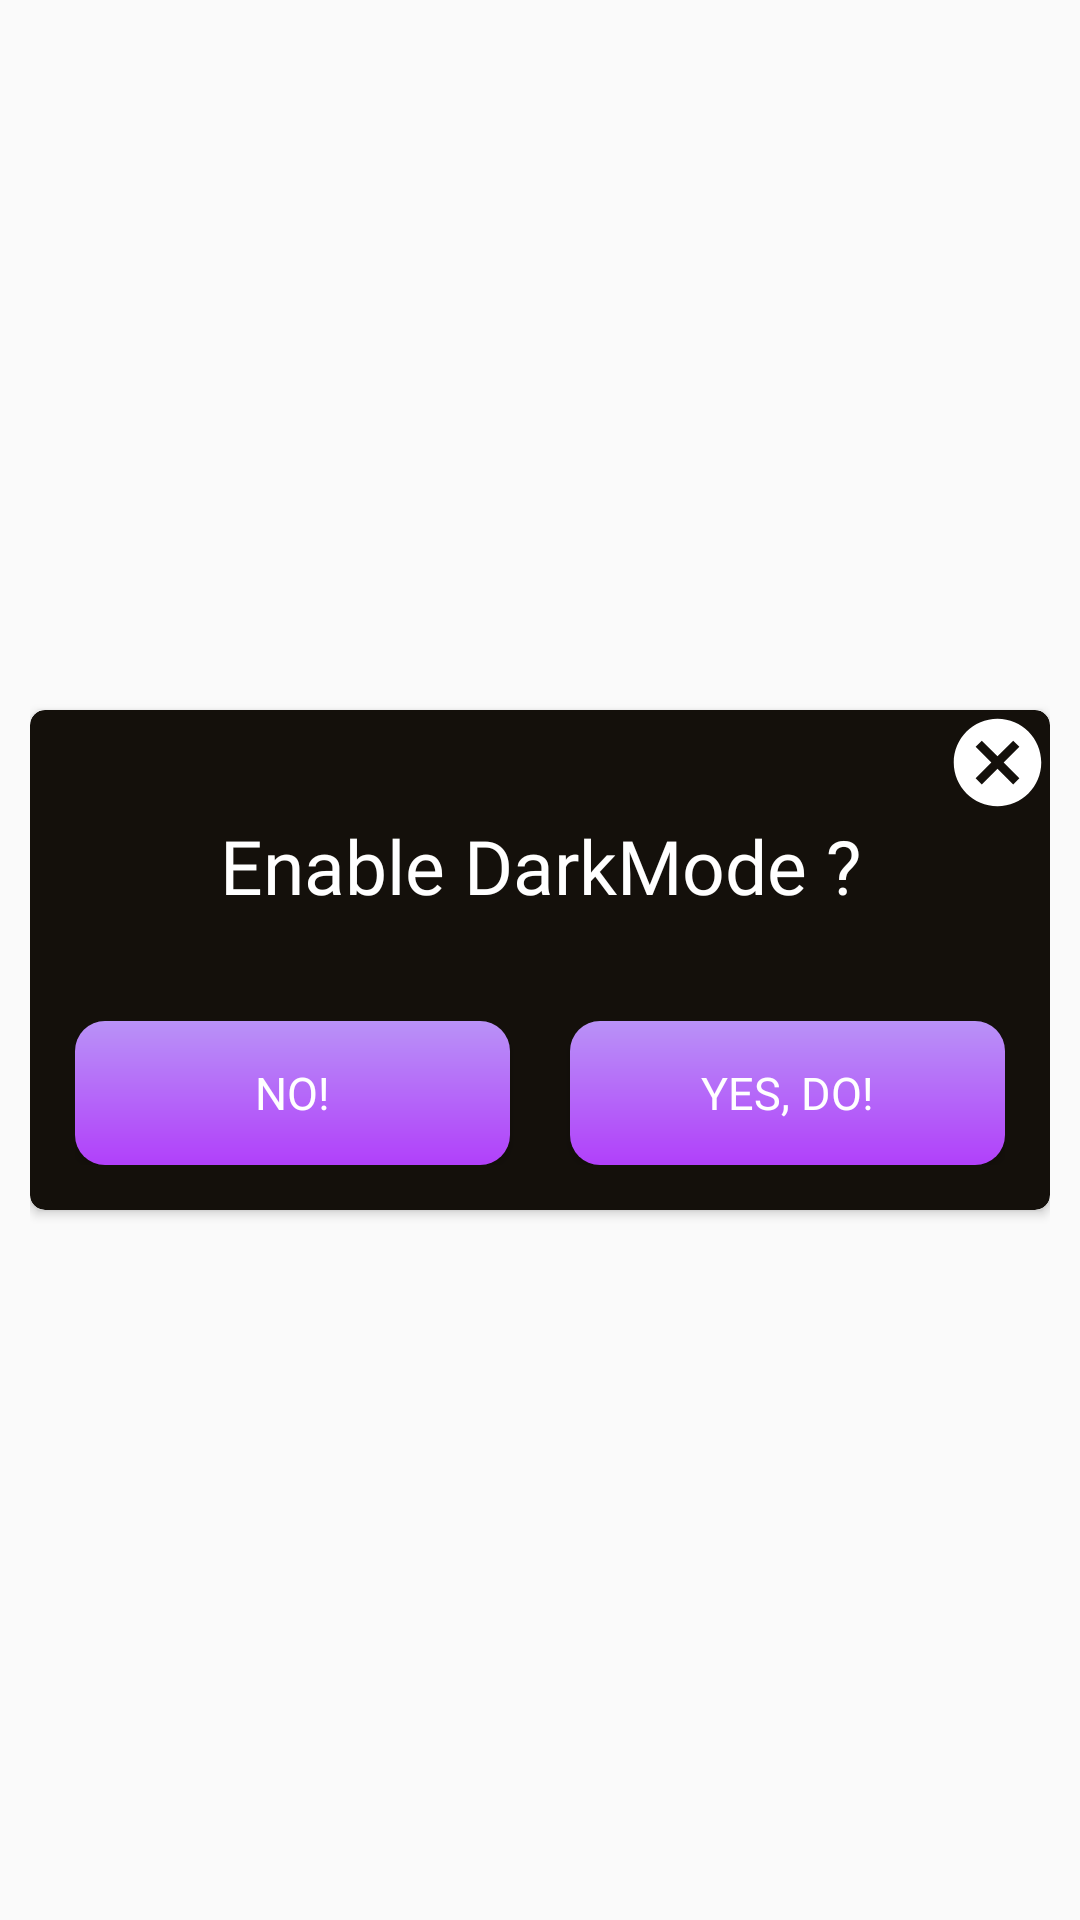

Where icons sit on this 1080x1920 app screen, as (x1, y1, x2, y2):
cancel: (953, 718, 1042, 807)
